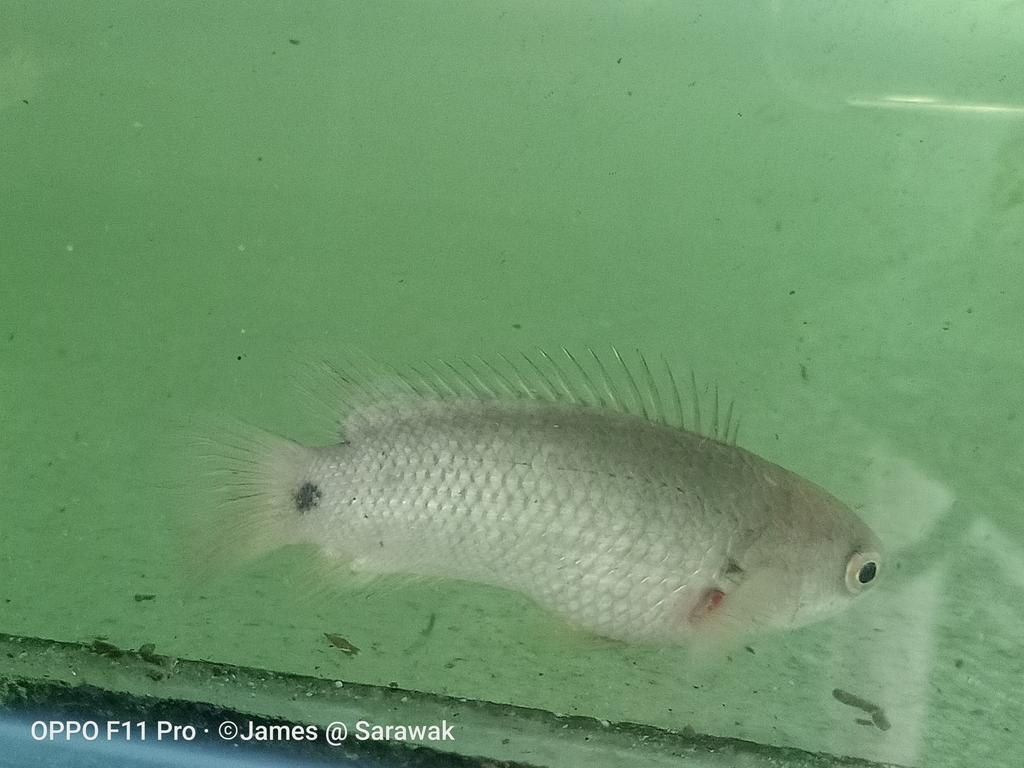Climbing Perch: (147, 320, 888, 682)
